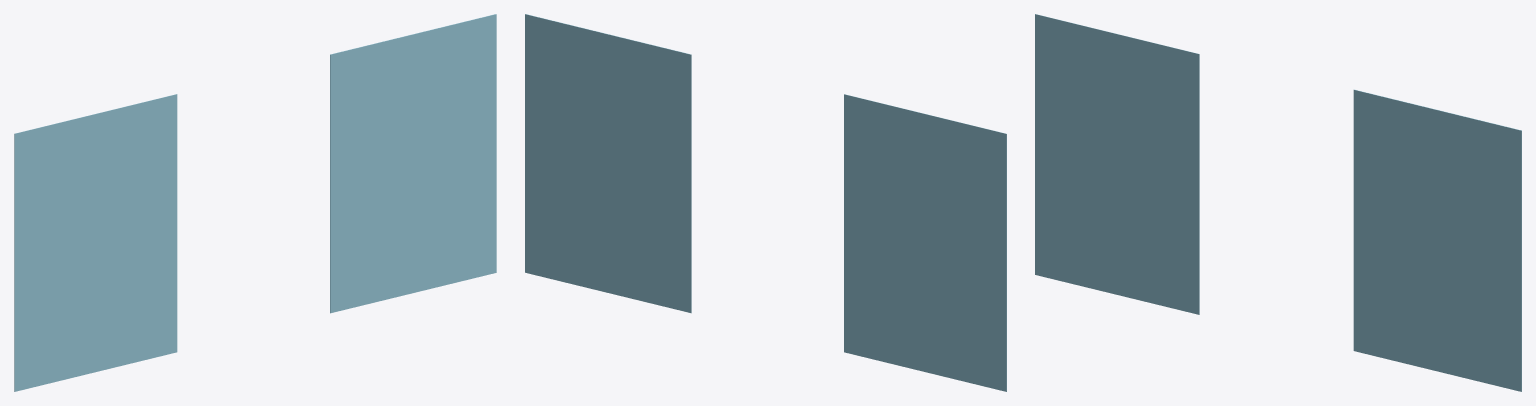
Rendered from Ventana.obj.
The picture shows the model from 3 angles, left to right: view 1: azimuth 30°, elevation 25°; view 2: azimuth 150°, elevation 25°; view 3: azimuth 330°, elevation 25°; orthographic projection.
Parts seen in each view (by area): view 1: Ventanas_polySurface1537pasted__polySurface1094group3; view 2: Ventanas_polySurface1537pasted__polySurface1094group3; view 3: Ventanas_polySurface1537pasted__polySurface1094group3.
Part boxes in pixels (x1,y1,x2,y2): Ventanas_polySurface1537pasted__polySurface1094group3: [14, 14, 496, 391]; Ventanas_polySurface1537pasted__polySurface1094group3: [525, 14, 1006, 391]; Ventanas_polySurface1537pasted__polySurface1094group3: [1035, 14, 1521, 391].
Size of the model in its own units: 203 by 105 by 0.2777.
1 material, 1 textured.
